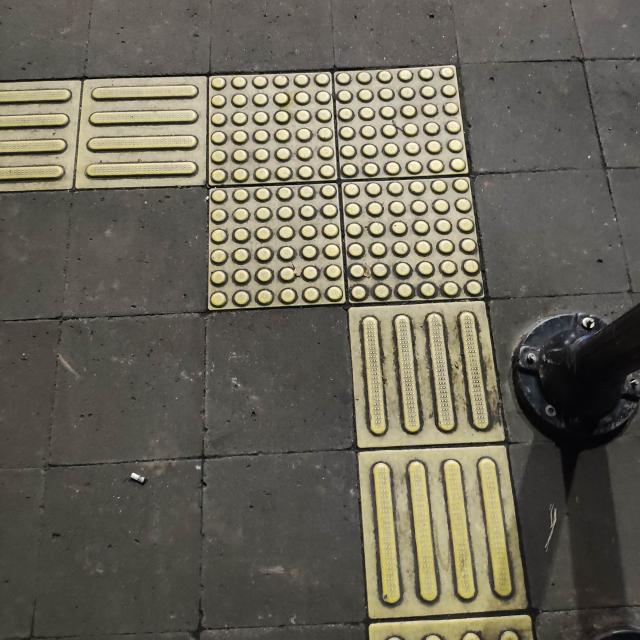kiri: (0, 25, 598, 472)
